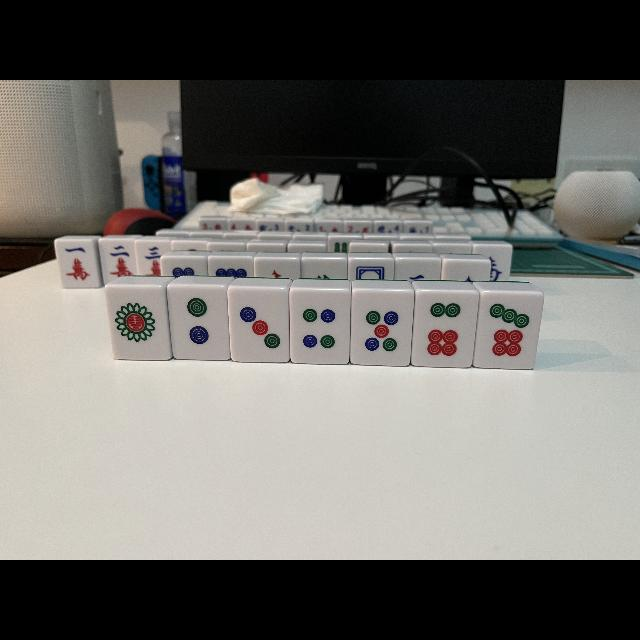c1: (54, 240, 100, 288)
c2: (100, 240, 138, 284)
d1: (106, 287, 170, 361)
d2: (168, 284, 230, 360)
d3: (228, 287, 290, 363)
d4: (290, 290, 348, 364)
d5: (351, 290, 411, 366)
d6: (414, 292, 472, 366)
d7: (478, 292, 540, 368)
